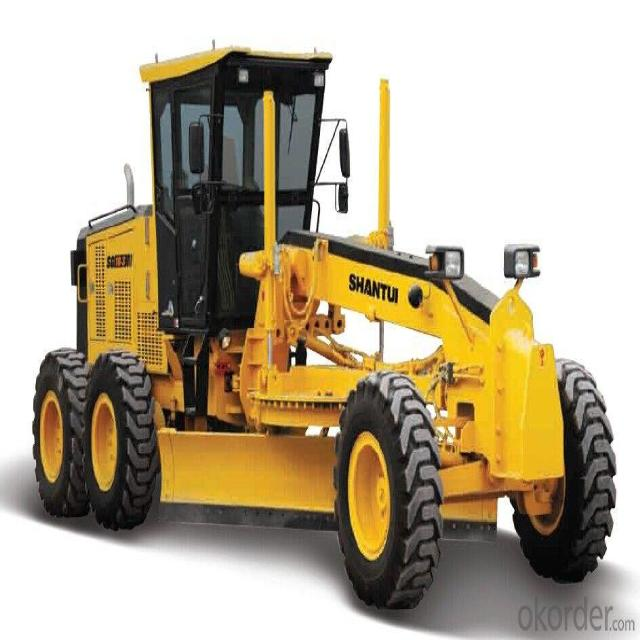buldozerpayloadergrader: (26, 36, 640, 609)
